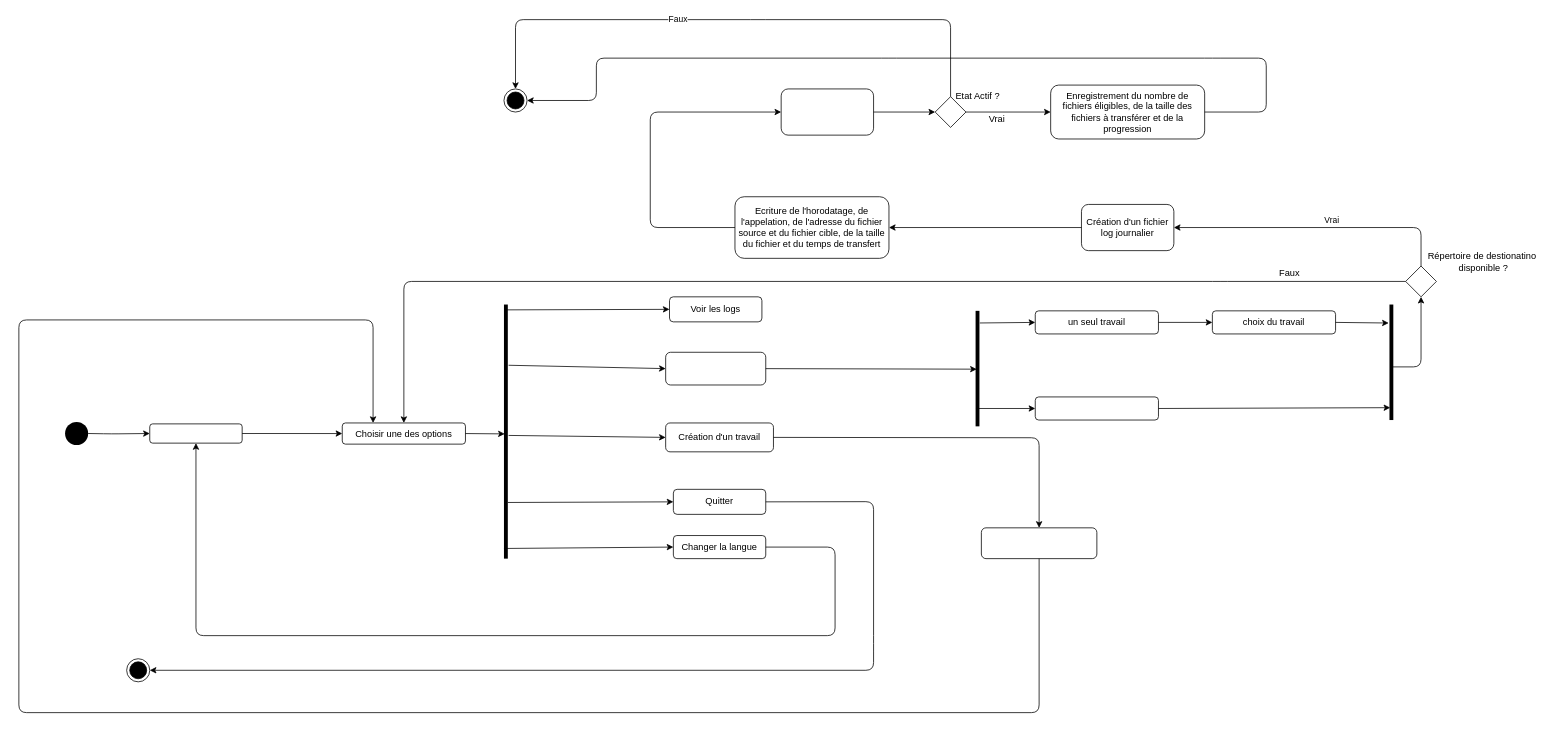
This 1557x732 diagram has some shape labels left out. The box of each missing label's shape, as (x1, y1, x2, y2) in pixels:
Choix de la langue: (149, 423, 242, 443)
Choix du nom et des répertoires: (981, 527, 1097, 559)
Enregistrement de l'appellation et de l'horodatage: (780, 88, 874, 135)
Execution: (665, 352, 766, 385)
tous les travaux: (1034, 396, 1158, 420)
